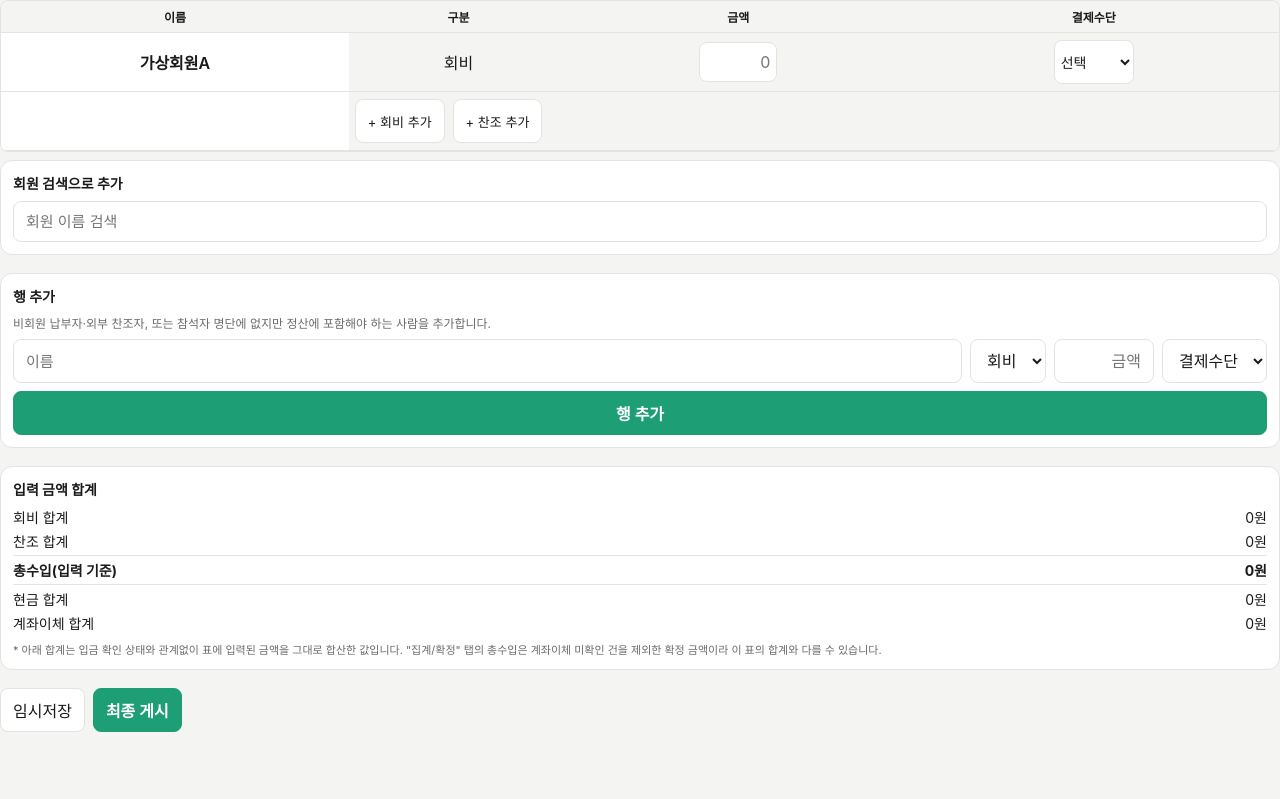
Test: 12. 찬조만 계좌이체 → 찬조 상태 select만 표시(회비는 계속 미노출) › 찬조 select가 나타나고, 회비는(현금 유지) 계속 안 보인다
Type "30000" into the field named "가상회원A 회비 금액" at {"x": 738, "y": 62}, box 699,42 -> 777,82
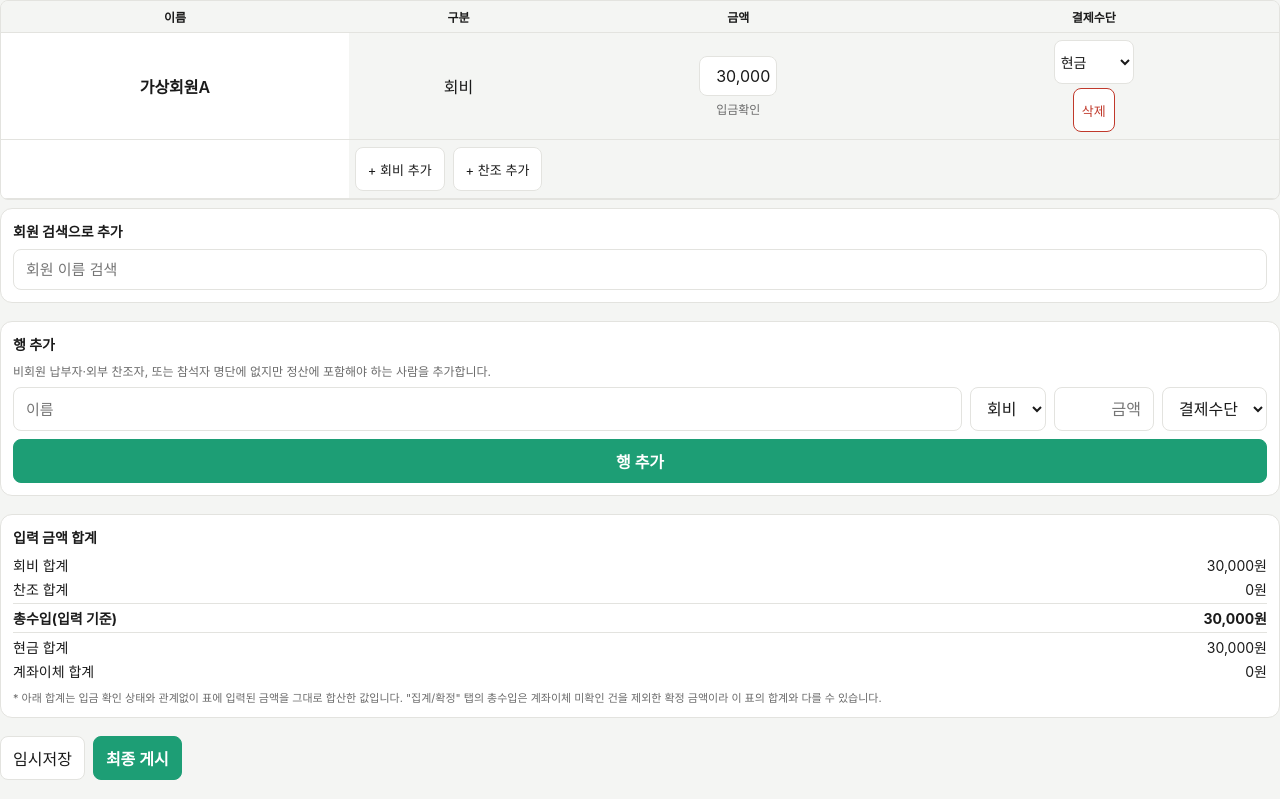
Select "현금" in the dropdown named "가상회원A 회비 결제수단" at {"x": 1094, "y": 62}, box 1054,40 -> 1134,84
Click the button "+ 찬조 추가" at {"x": 498, "y": 169}, box 453,147 -> 542,191
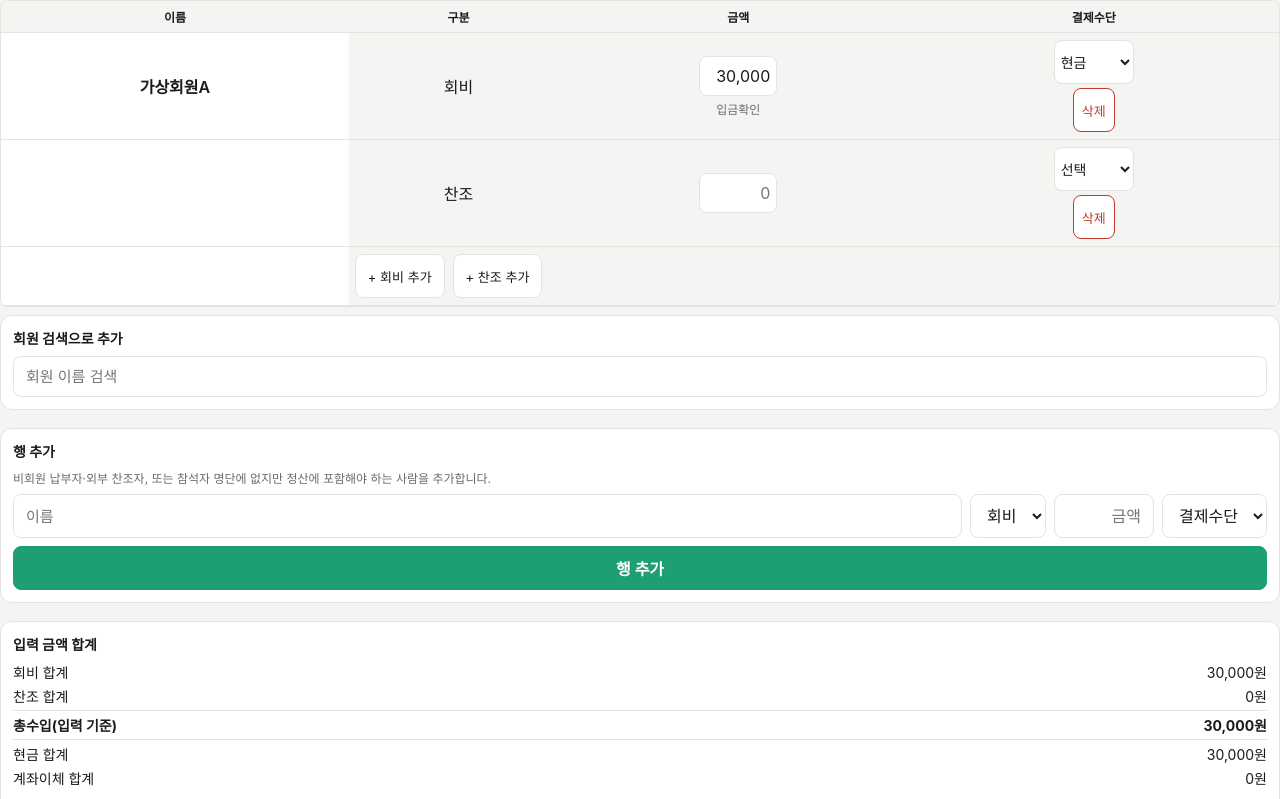
Type "20000" into the field named "가상회원A 찬조 금액" at {"x": 738, "y": 193}, box 699,173 -> 777,213
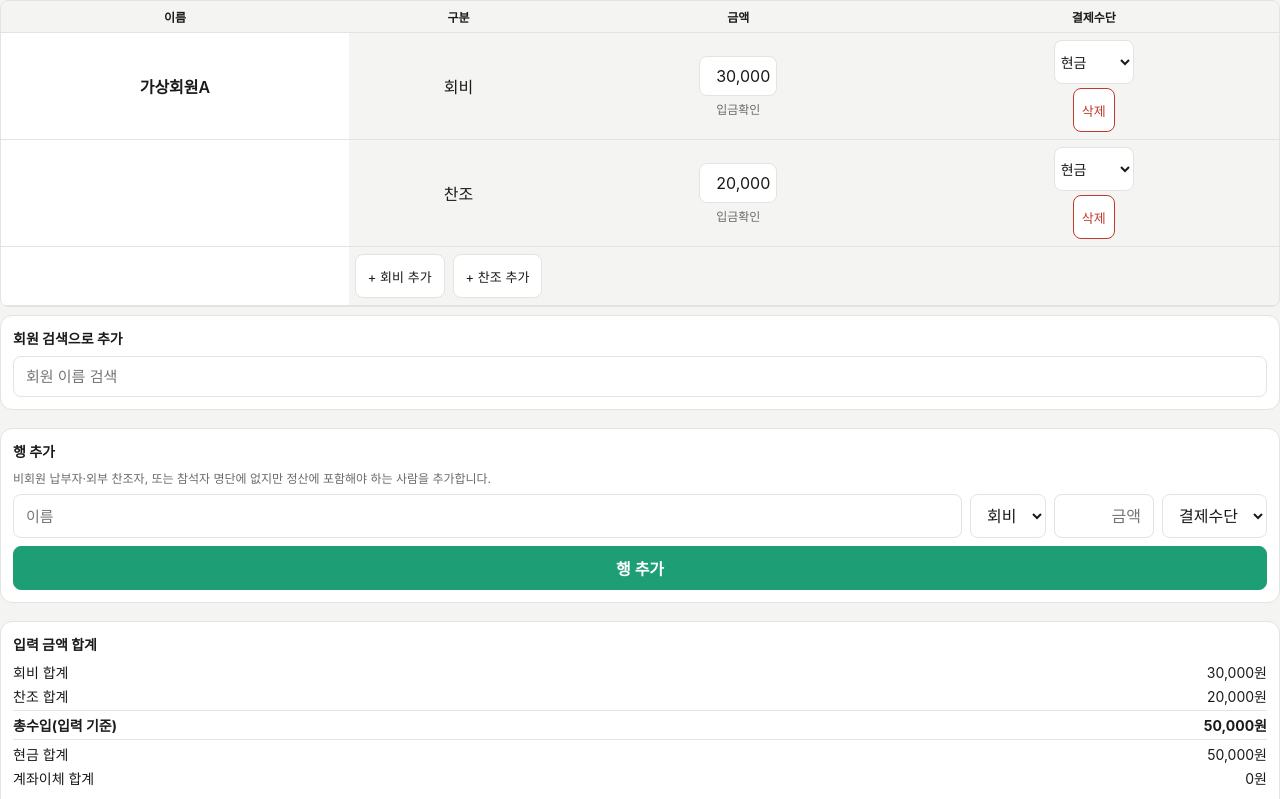
Select "계좌이체" in the dropdown named "가상회원A 찬조 결제수단" at {"x": 1094, "y": 169}, box 1054,147 -> 1134,191
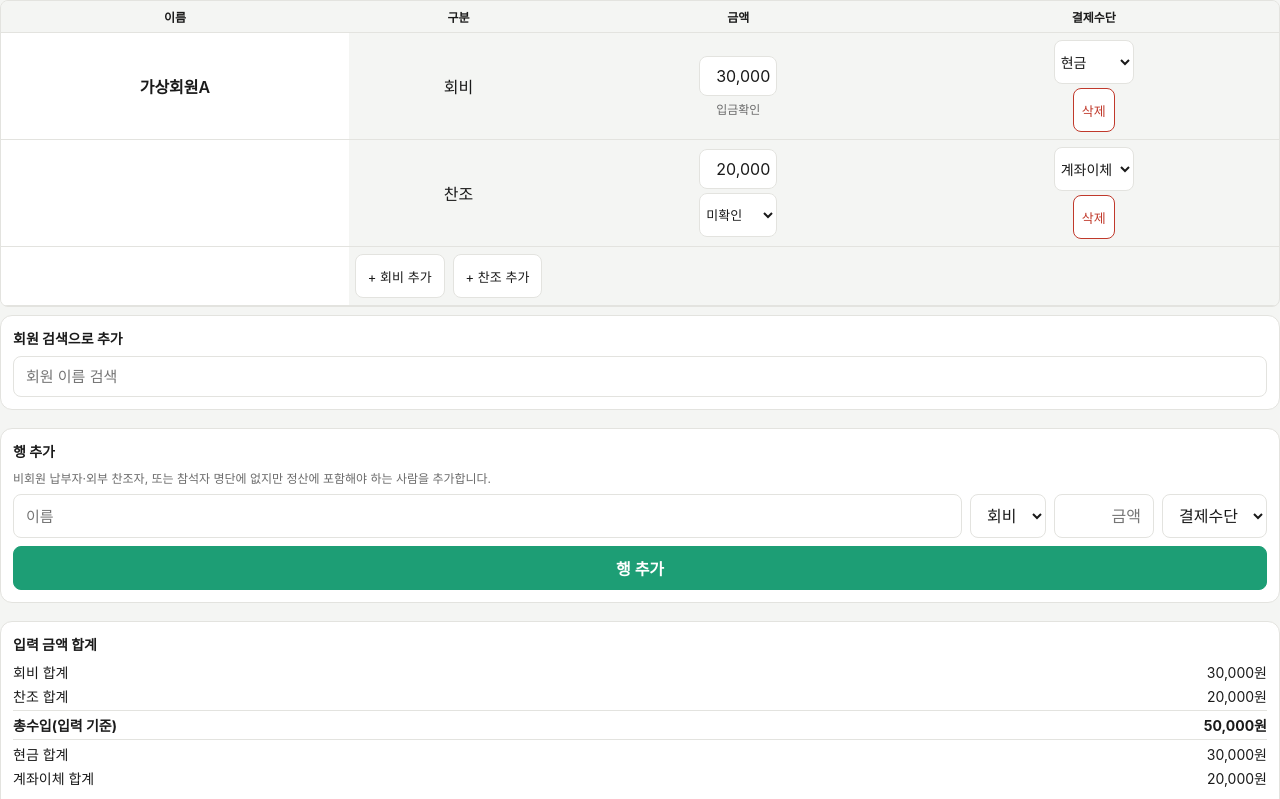
Now the dropdown named "가상회원A 찬조 확인상태" is shown, box 699,193 -> 777,237
